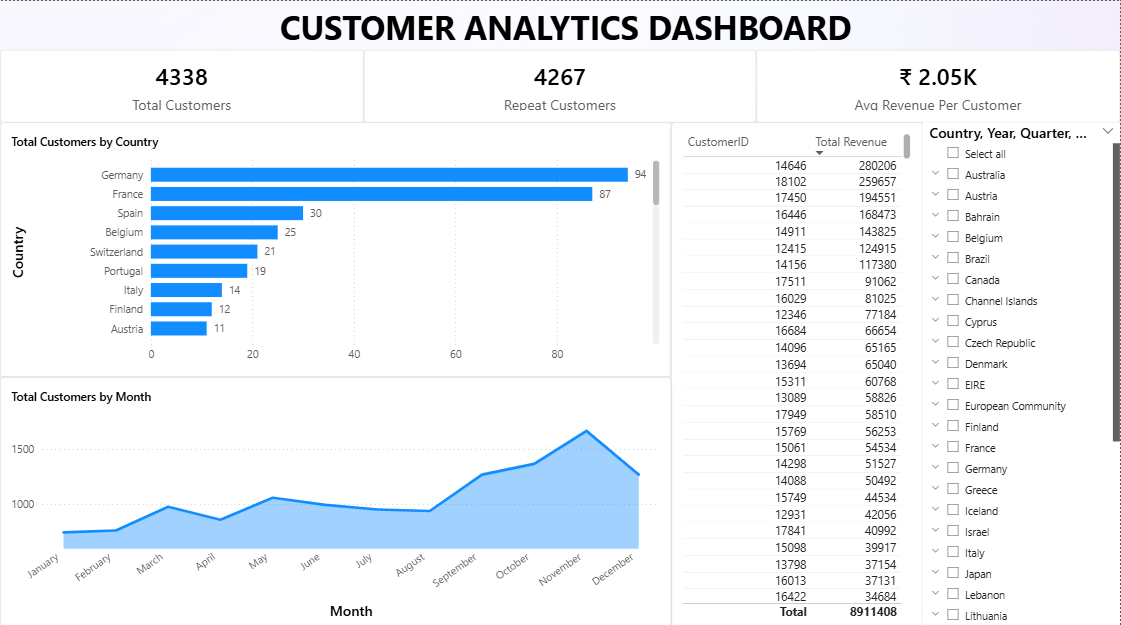

The dashboard page shown, as its layout file describes it:
{"tool":"powerbi","page":{"name":"Customer  Dashboard","canvas":[1280,720],"ordinal":1},"visuals":[{"type":"card","fields":{"Values":["Online Retail.Total Customers"]},"box":[0,55.7,415.7,82.9],"z":0},{"type":"card","fields":{"Values":["Online Retail.Repeat Customers"]},"box":[415.7,55.7,448.6,82.9],"z":1000},{"type":"card","fields":{"Values":["Online Retail.Avg Revenue Per Customer"]},"box":[864.3,55.7,415.7,82.9],"z":2000},{"type":"clusteredBarChart","fields":{"Category":["Online Retail.Country"],"Y":["Online Retail.Total Customers"]},"box":[0,138.6,767.1,291.4],"z":3000},{"type":"tableEx","fields":{"Values":["Online Retail.CustomerID","Online Retail.Total Revenue"]},"box":[767.1,138.6,287.1,581.4],"z":4000},{"type":"areaChart","fields":{"Category":["Online Retail.InvoiceDate.Variation.Date Hierarchy.Month"],"Y":["Online Retail.Total Customers"]},"box":[0,430,767.1,290],"z":5000},{"type":"textbox","box":[272.9,0,747.1,67.1],"z":7000},{"type":"slicer","fields":{"Values":["Online Retail.Country","Online Retail.InvoiceDate.Variation.Date Hierarchy.Year","Online Retail.InvoiceDate.Variation.Date Hierarchy.Quarter","Online Retail.InvoiceDate.Variation.Date Hierarchy.Month","Online Retail.InvoiceDate.Variation.Date Hierarchy.Day"]},"box":[1054.3,138.6,225.7,581.4],"z":8000}]}

Visuals, with their boxes in screenshot pixels (x1, y1, x2, y2), scaled from the page's 1280x720 canvas onto the 1121x625 screenshot:
card - Online Retail.Total Customers: Rect(0, 48, 364, 120)
card - Online Retail.Repeat Customers: Rect(364, 48, 757, 120)
card - Online Retail.Avg Revenue Per Customer: Rect(757, 48, 1120, 120)
clusteredBarChart - Online Retail.Country x Online Retail.Total Customers: Rect(0, 120, 672, 373)
tableEx - Online Retail.CustomerID x Online Retail.Total Revenue: Rect(672, 120, 923, 624)
areaChart - Online Retail.InvoiceDate.Variation.Date Hierarchy.Month x Online Retail.Total Customers: Rect(0, 373, 672, 624)
textbox: Rect(239, 0, 893, 58)
slicer - Online Retail.Country x Online Retail.InvoiceDate.Variation.Date Hierarchy.Year: Rect(923, 120, 1120, 624)
